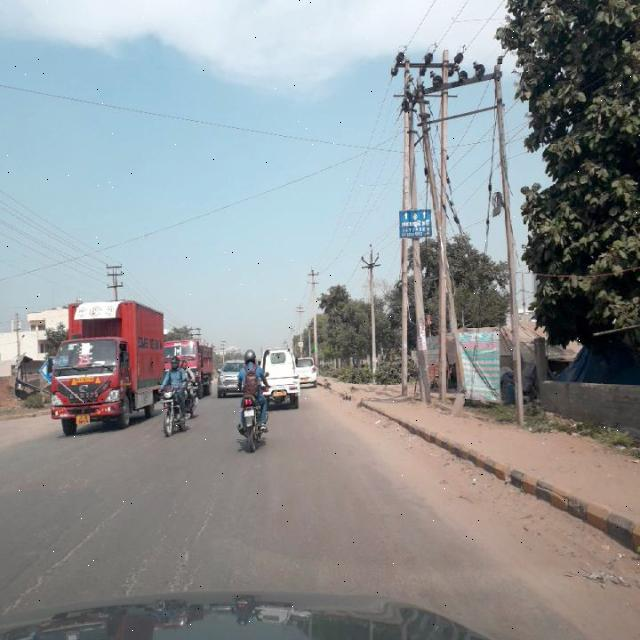D00: (8, 500, 124, 610), (130, 505, 239, 592)
